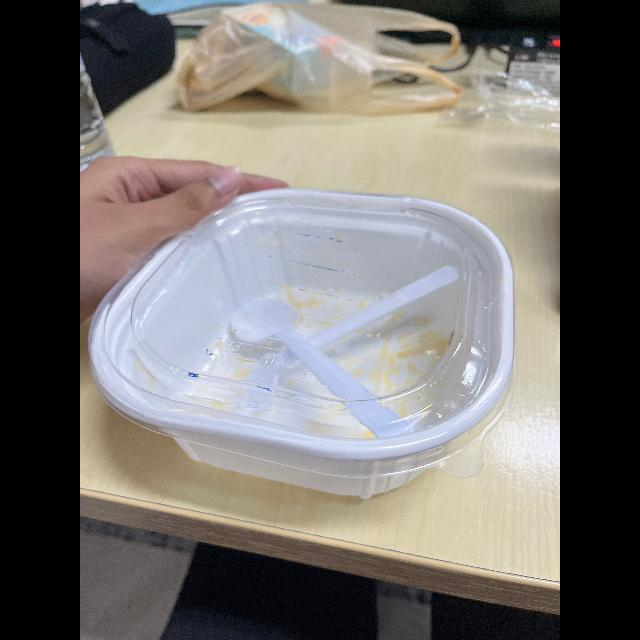plastic_box: (87, 178, 521, 506)
